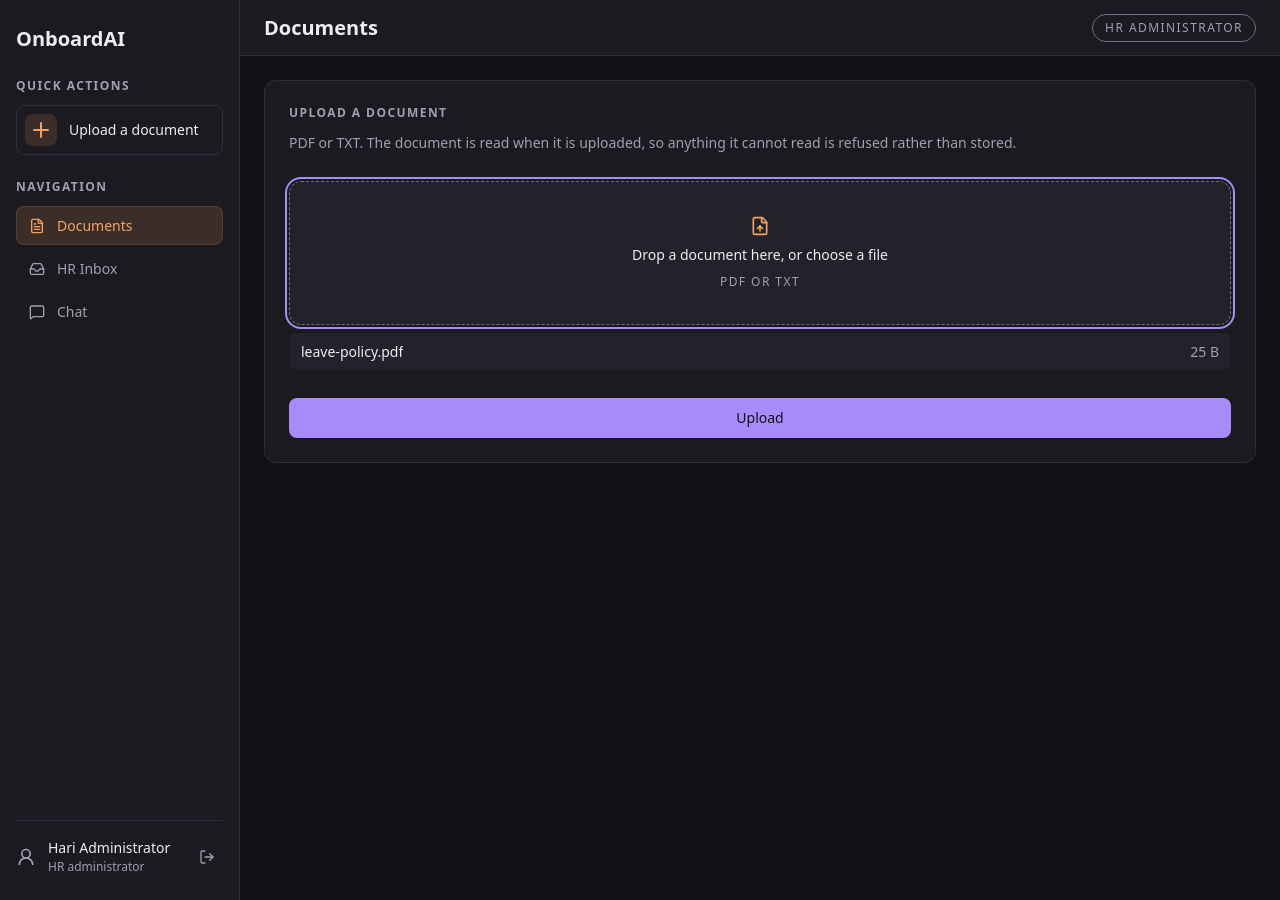
Test: while it is uploading › names the file being uploaded
This screenshot has width=1280, height=900.
Earlier steps of the test are not shown.
Step 1. Click the button "Upload" → (760, 418), box [289,398,1231,438]
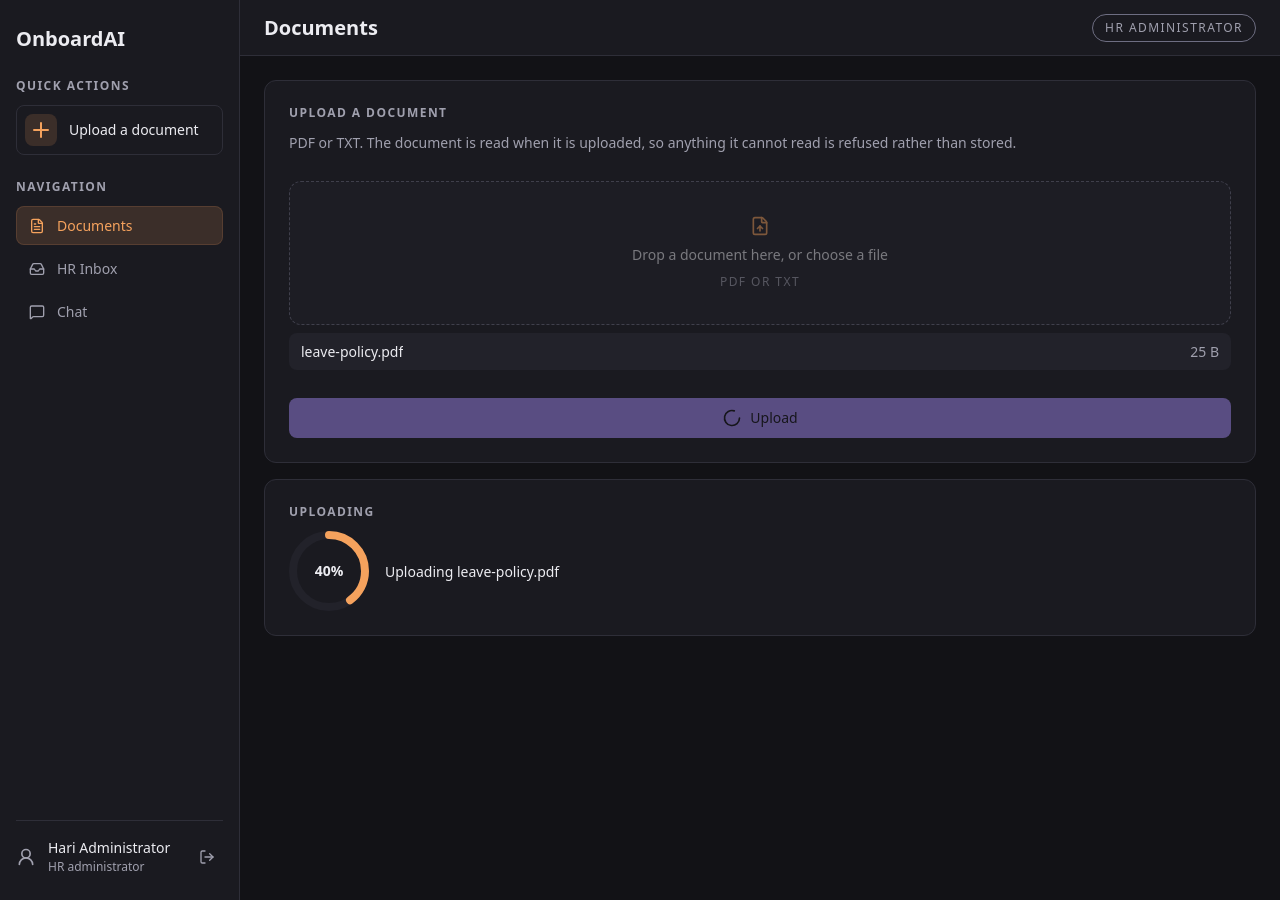
Check: the text "Uploading leave-policy.pdf" is shown, box [385,560,559,582]
